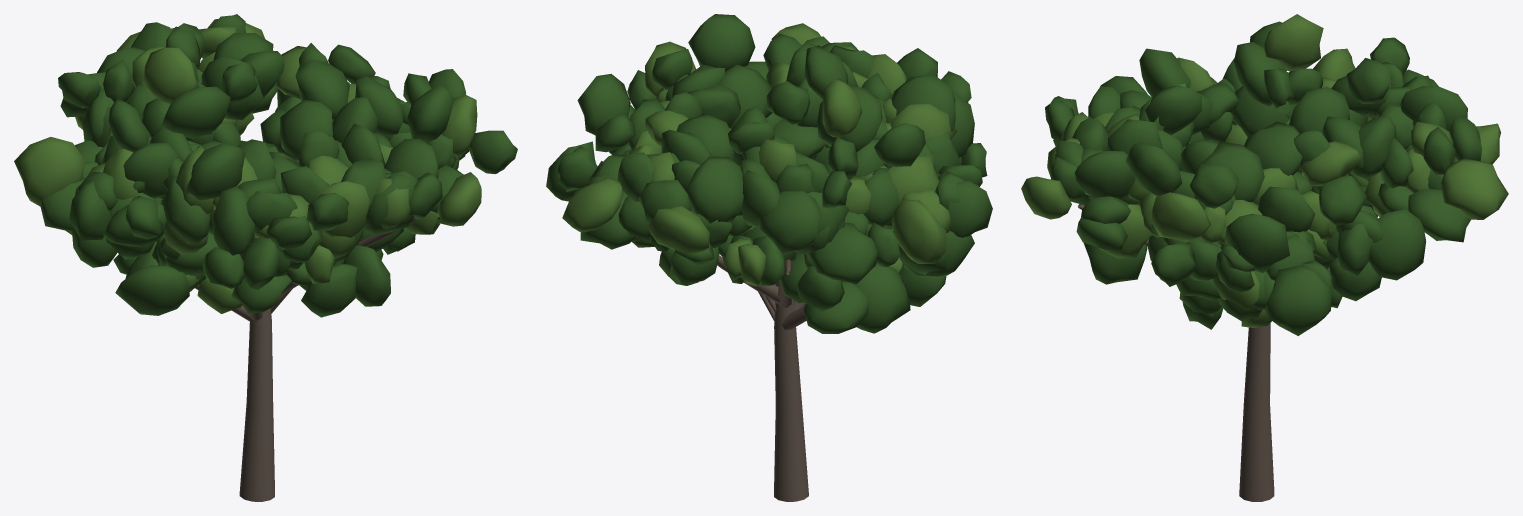
The model's file is city_neem_3.glb.
The picture shows the model from 3 angles, left to right: view 1: azimuth 30°, elevation 25°; view 2: azimuth 150°, elevation 25°; view 3: azimuth 270°, elevation 25°; orthographic projection.
Visible parts, largest first — view 1: Branch; view 2: Branch; view 3: Branch.
Part boxes in pixels (<box>): Branch: <box>14,14,517,501</box>; Branch: <box>546,14,992,501</box>; Branch: <box>1021,14,1508,501</box>.
Bounding box in the file's own units: 8.37 × 8.67 × 8.6.
